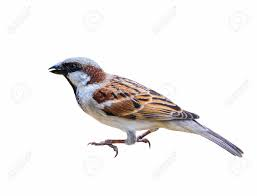hsparrow: (47, 55, 248, 176)
